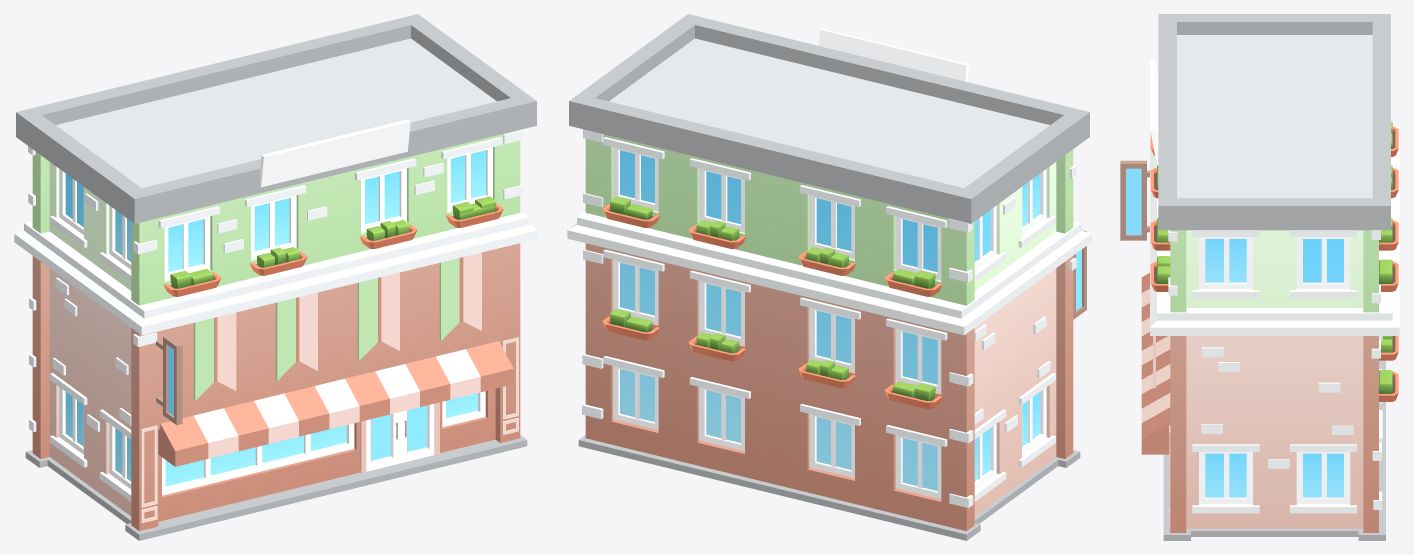
File: Building_Living_24.glb
3 views of the same model, side by side, from view 1: azimuth 30°, elevation 25°; view 2: azimuth 150°, elevation 25°; view 3: azimuth 270°, elevation 25° (orthographic). The views are drawn at different scales.
Visible parts, largest first — view 1: Building_Living_24; view 2: Building_Living_24; view 3: Building_Living_24.
Boxes of the visible parts, x1=… form: Building_Living_24: x1=14, y1=14, x2=538, y2=540; Building_Living_24: x1=567, y1=14, x2=1091, y2=540; Building_Living_24: x1=1120, y1=14, x2=1399, y2=540.
Bounding box in the file's own units: 13.39 × 11.47 × 8.22.
1 material, 1 textured.
